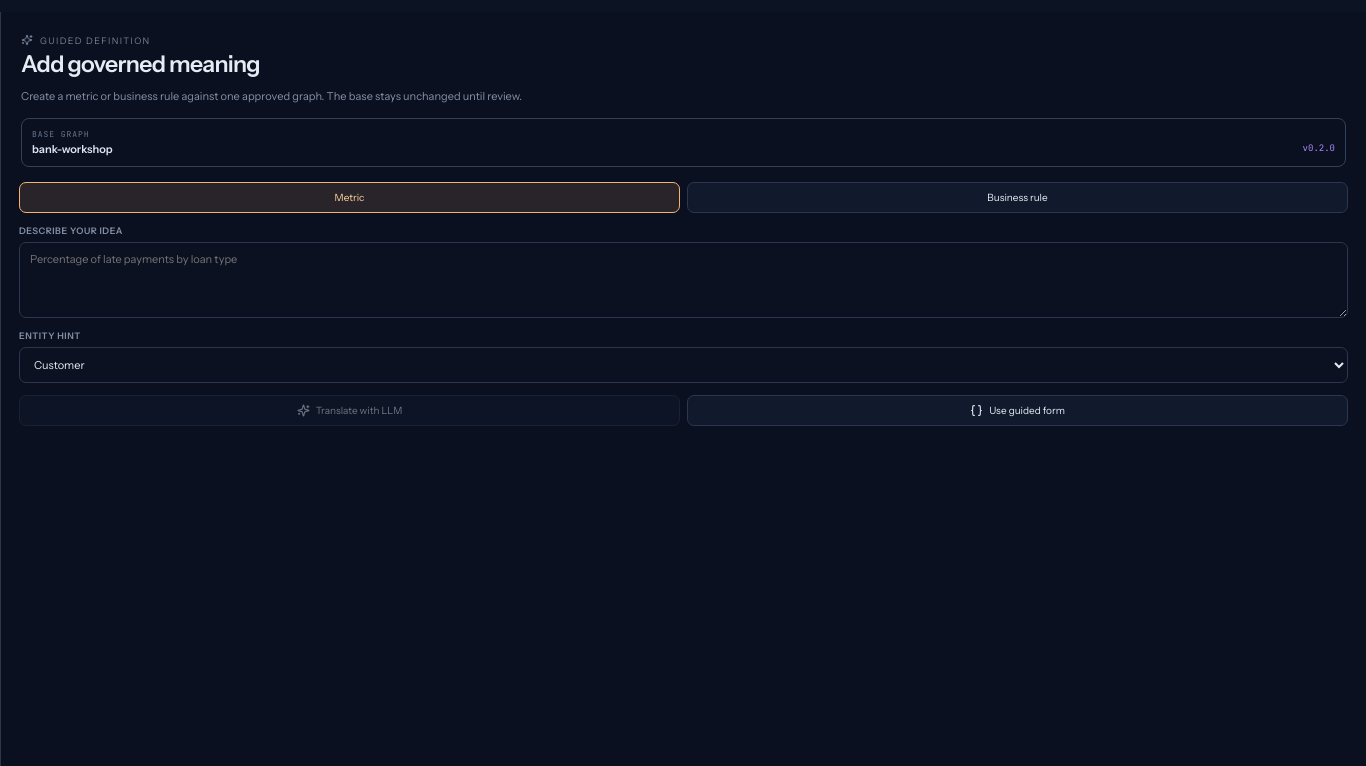
Test: DefinitionComposer › uses guided aggregate and ratio controls without exposing measure JSON
Click the button "Use guided form" at (1018, 410), box [687,395,1348,426]
(page scrolled)
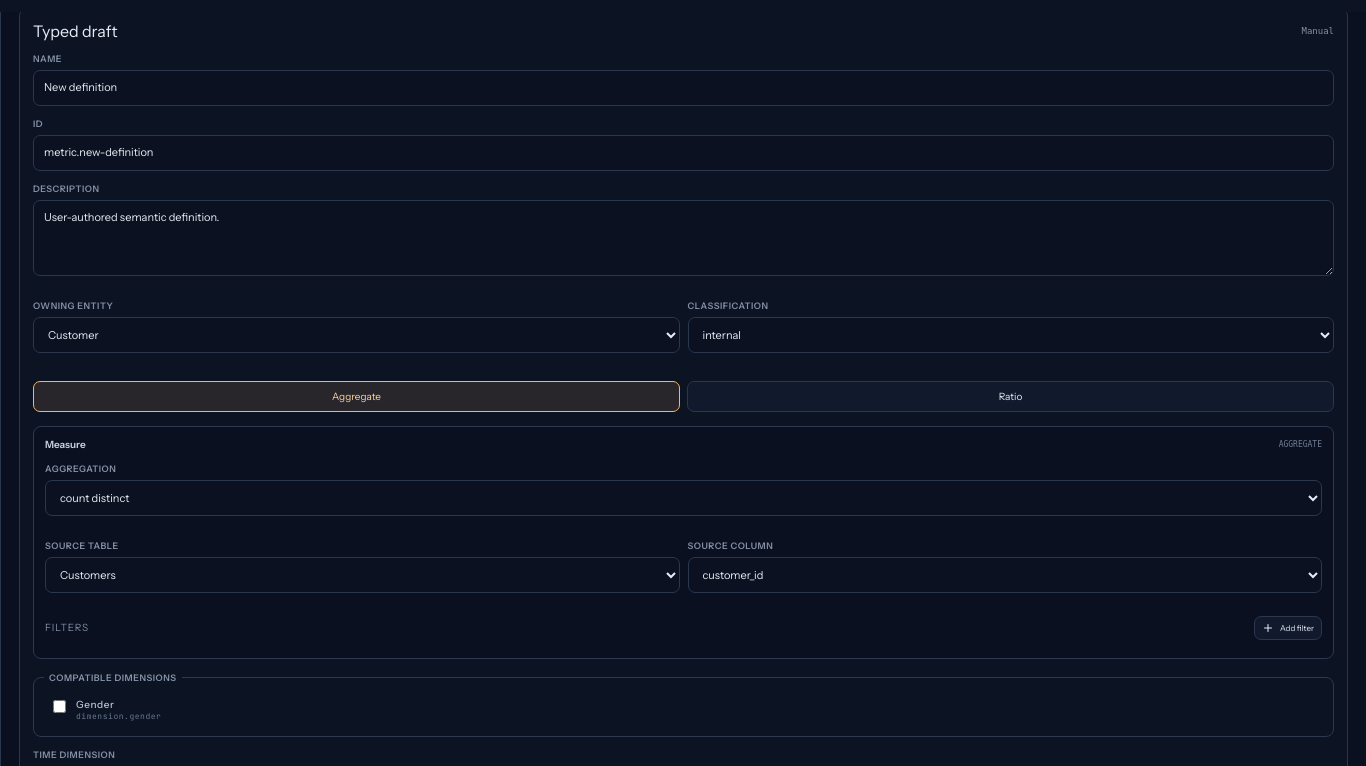
Now the dropdown named "Measure aggregation" shows "count distinct", box [45,480,1322,516]
Click the button "Ratio" at (1010, 396), box [687,381,1334,412]
(page scrolled)
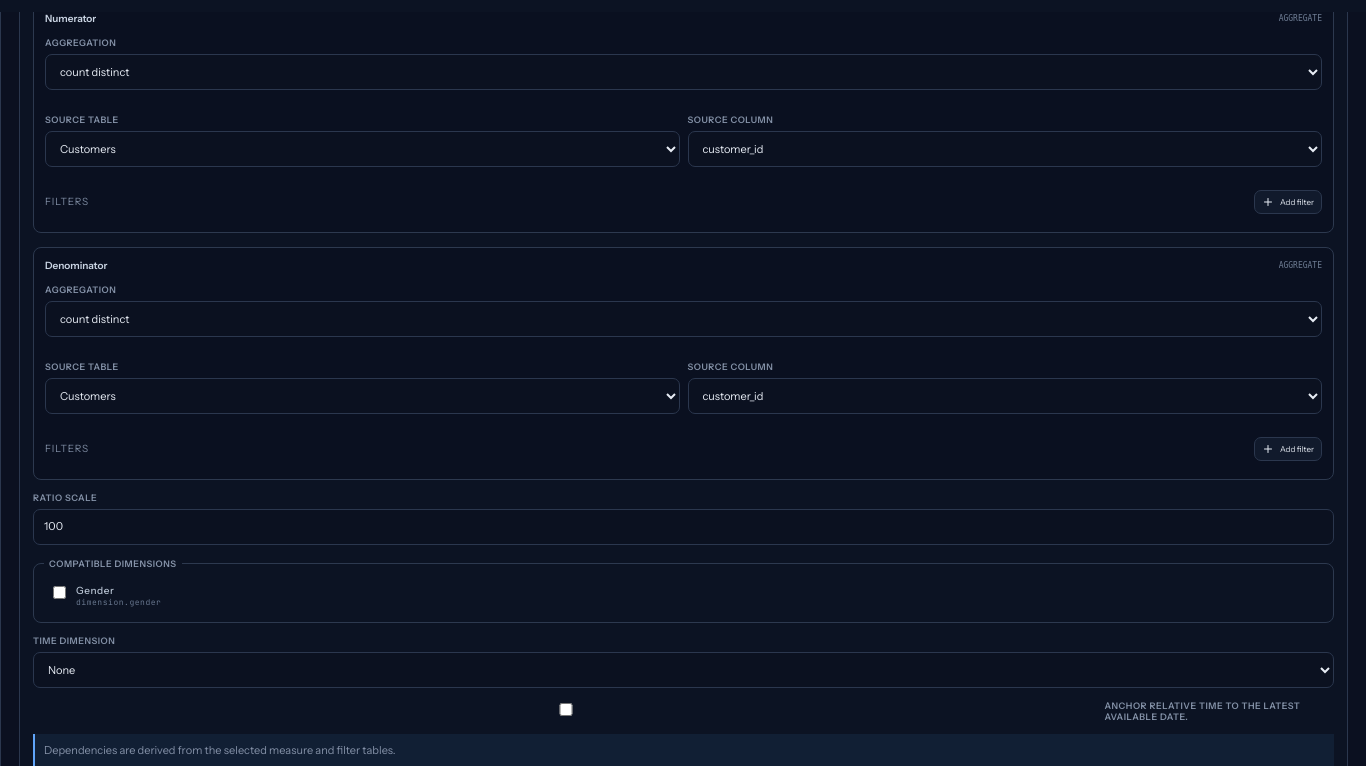
Now the dropdown named "Numerator aggregation" is shown, box [45,54,1322,90]
Now the dropdown named "Denominator source column" shows "customer_id", box [688,378,1322,414]
